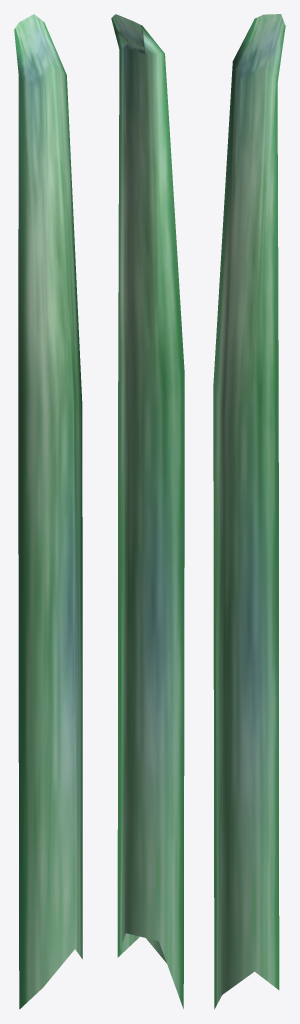
The model's file is crypt_water_gargoyle.fbx.
3 renders of one model, left to right at view 1: azimuth 30°, elevation 25°; view 2: azimuth 150°, elevation 25°; view 3: azimuth 330°, elevation 25°, orthographic. The views are drawn at different scales.
Parts seen in each view (by area): view 1: crypt_water_gargoyle-0; view 2: crypt_water_gargoyle-0; view 3: crypt_water_gargoyle-0.
Part boxes in pixels (x1,y1,x2,y2): crypt_water_gargoyle-0: (14, 14, 82, 1009); crypt_water_gargoyle-0: (111, 14, 184, 1008); crypt_water_gargoyle-0: (213, 14, 285, 1009).
Size of the model in its own units: 1.03 by 14.75 by 0.9237.
